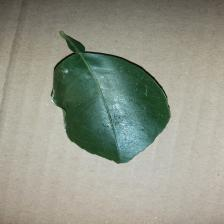healthy: (46, 48, 177, 166)
